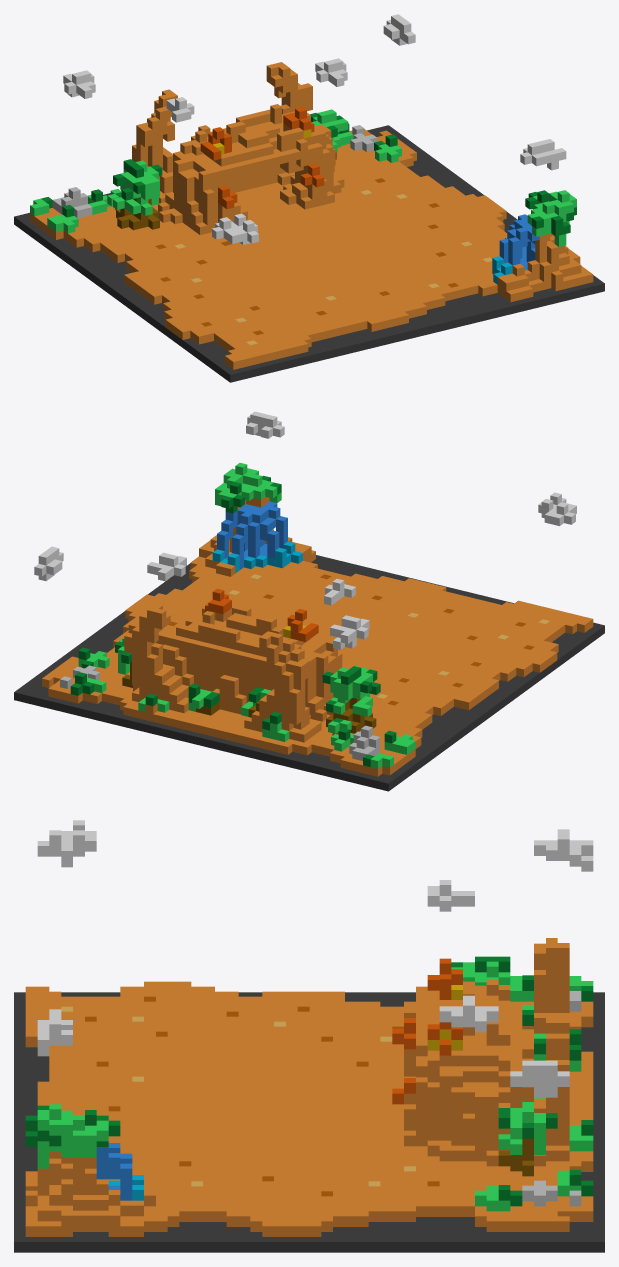
Rendered from world.glb.
3 renders of one model, top to bottom at view 1: azimuth 30°, elevation 25°; view 2: azimuth 150°, elevation 25°; view 3: azimuth 270°, elevation 25°, orthographic. The views are drawn at different scales.
Visible parts, largest first — view 1: world; view 2: world; view 3: world.
Boxes of the visible parts, x1,y1,x2,y2 form: world: (14,14,604,382); world: (14,411,604,791); world: (14,820,604,1252).
Bounding box in the file's own units: 50 × 19 × 50.
